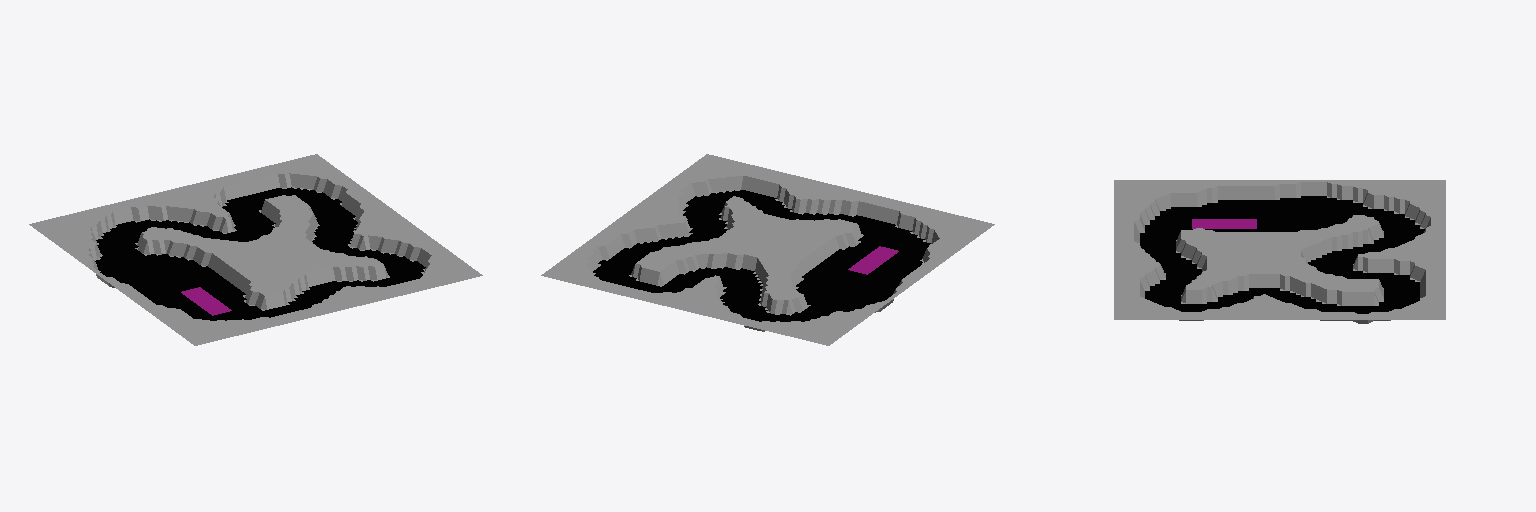
The model's file is map.obj.
3 views of the same model, side by side, from view 1: azimuth 30°, elevation 25°; view 2: azimuth 150°, elevation 25°; view 3: azimuth 270°, elevation 25° (orthographic).
Bounding box in the file's own units: 98.15 × 3.89 × 98.15.